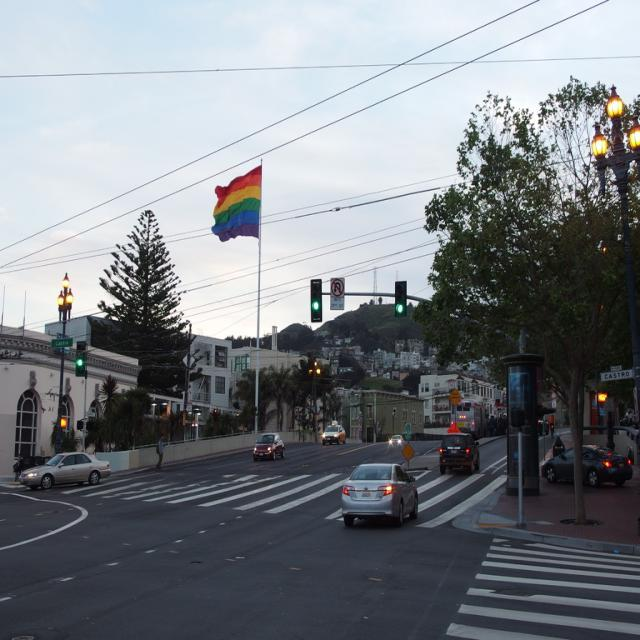traffic light: (310, 281, 322, 324), (394, 281, 408, 316), (76, 340, 87, 375)
